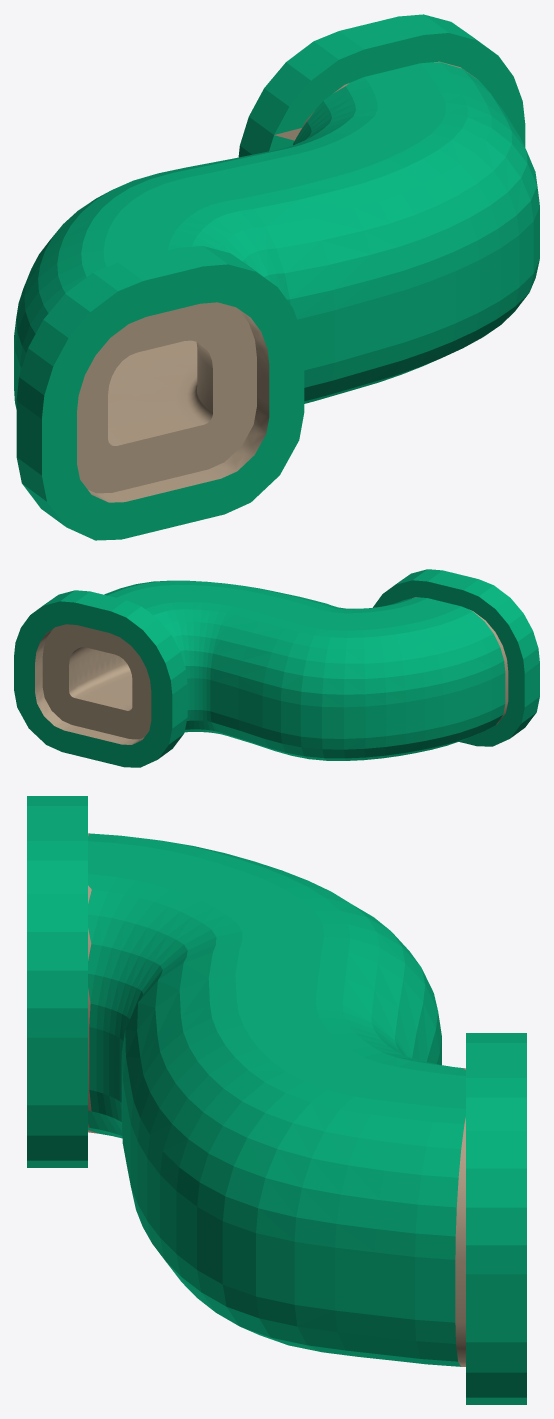
File: TT_P_Dogleg_R.fbx
The picture shows the model from 3 angles, top to bottom: view 1: azimuth 30°, elevation 25°; view 2: azimuth 150°, elevation 25°; view 3: azimuth 270°, elevation 25°; orthographic projection. The views are drawn at different scales.
Parts seen in each view (by area): view 1: TT_P_Dogleg_R_LOD0; view 2: TT_P_Dogleg_R_LOD0; view 3: TT_P_Dogleg_R_LOD0.
Part boxes in pixels (box(x1,y1,x2,y2)): TT_P_Dogleg_R_LOD0: box(14, 14, 539, 540); TT_P_Dogleg_R_LOD0: box(14, 569, 539, 767); TT_P_Dogleg_R_LOD0: box(27, 796, 526, 1404).
Bounding box in the file's own units: 760 × 277 × 410.
